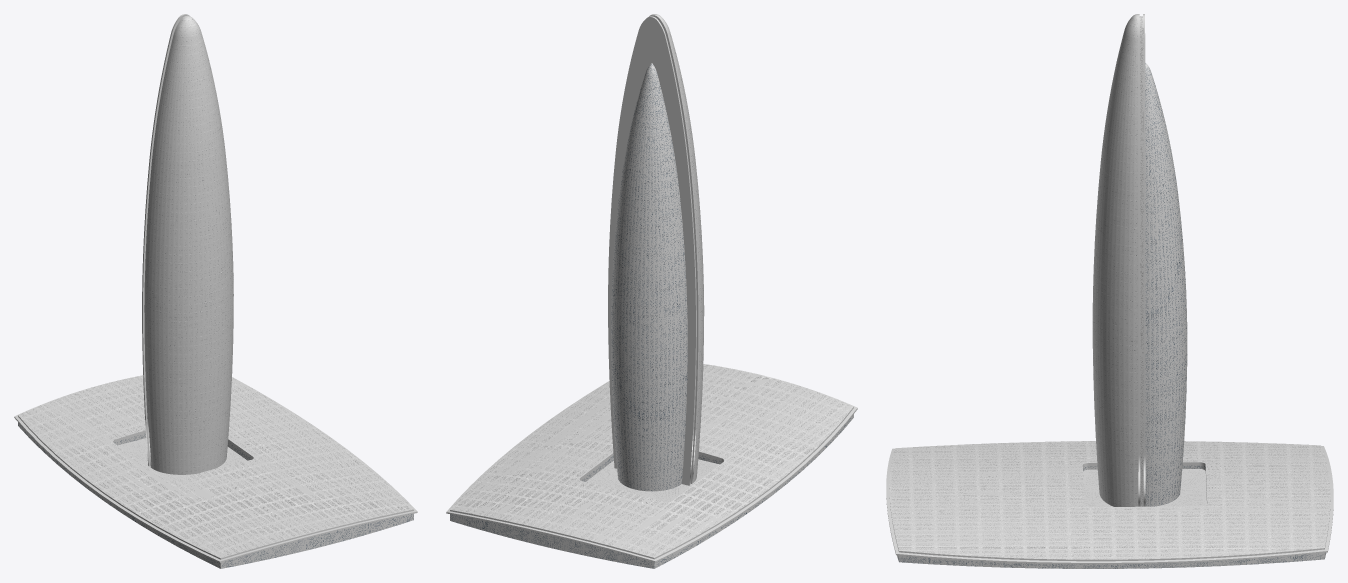
The model's file is Mohammed6Tower.obj.
3 renders of one model, left to right at view 1: azimuth 30°, elevation 25°; view 2: azimuth 150°, elevation 25°; view 3: azimuth 270°, elevation 25°, orthographic. The views are drawn at different scales.
Parts seen in each view (by area): view 1: Mesh1 Model; view 2: Mesh1 Model; view 3: Mesh1 Model.
Boxes of the visible parts, <box> form: Mesh1 Model: <box>14,14,417,568</box>; Mesh1 Model: <box>446,14,857,568</box>; Mesh1 Model: <box>886,14,1333,568</box>.
Bounding box in the file's own units: 5280 × 9840 × 8211.
